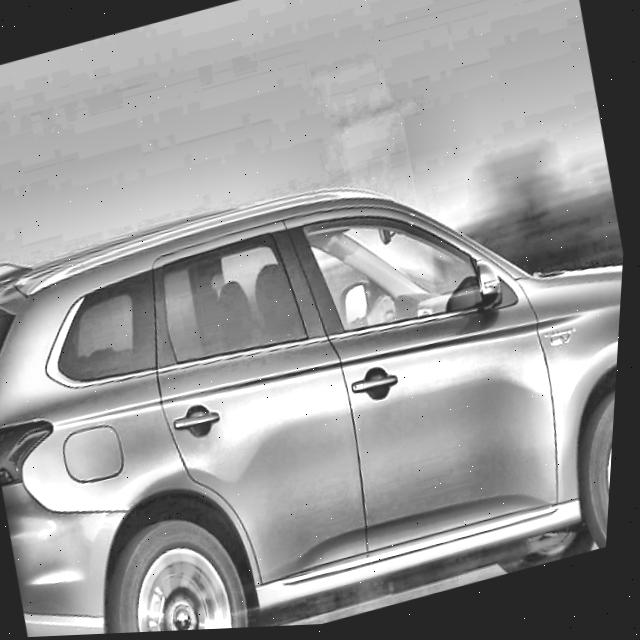light_vehicle: (0, 104, 634, 640)
